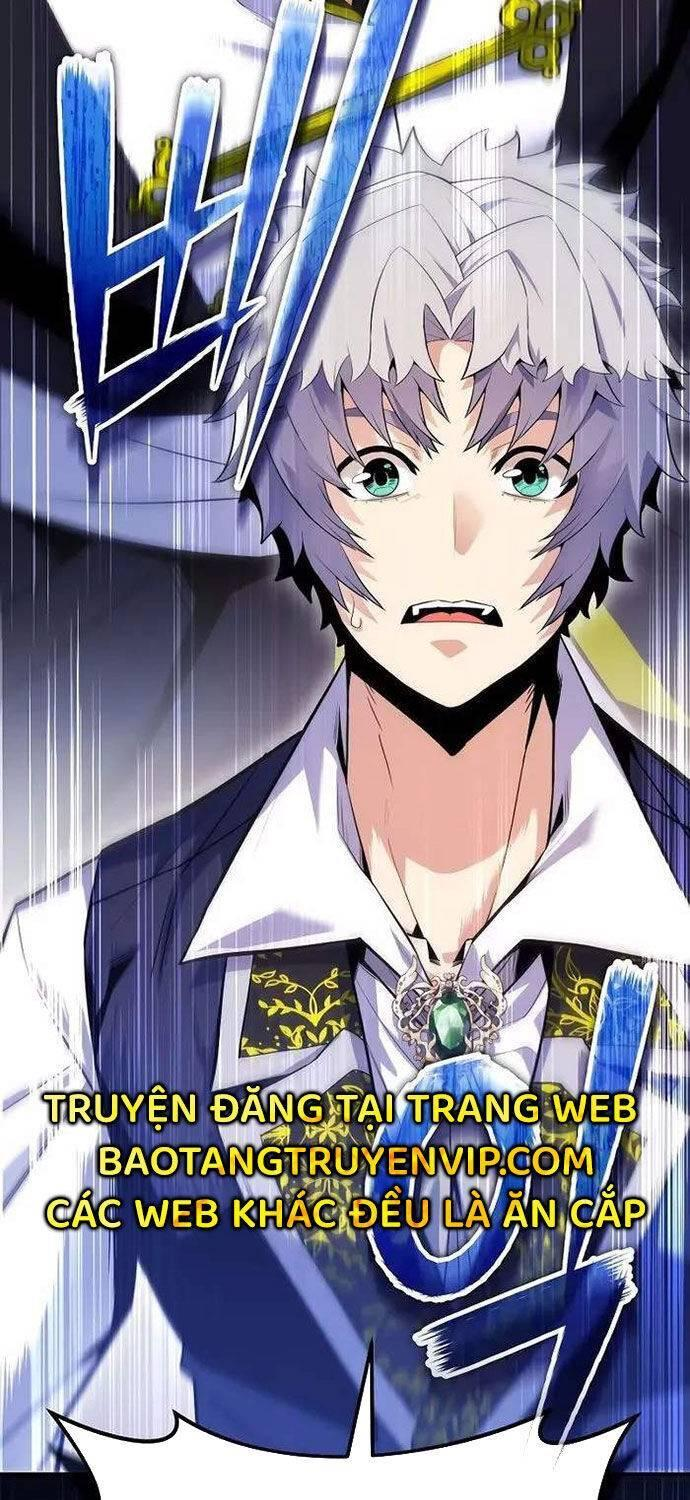quangcao: (38, 1082, 652, 1234)
